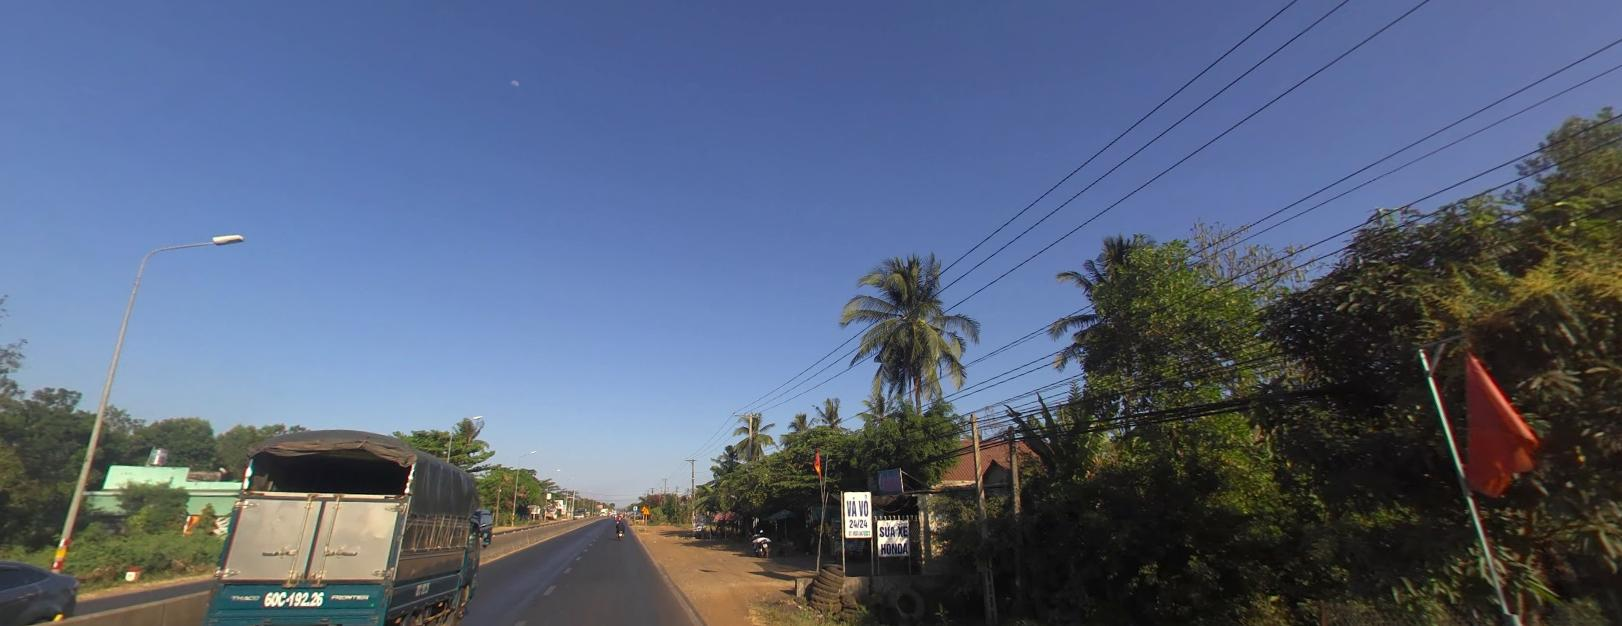Nguy hiem: (642, 506, 649, 514), (641, 505, 645, 510)
